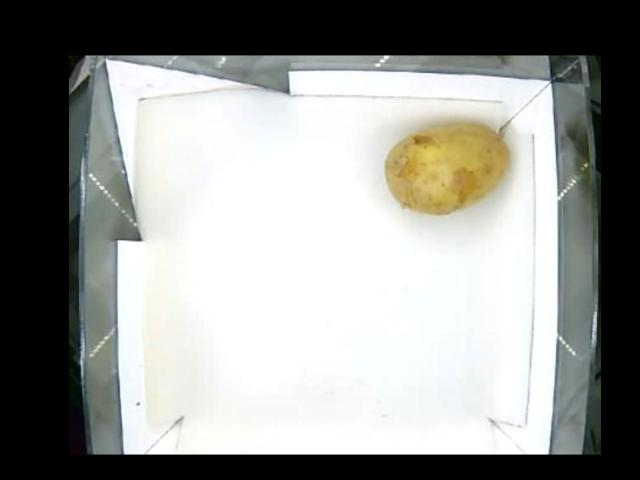Potato: (384, 123, 510, 213)
